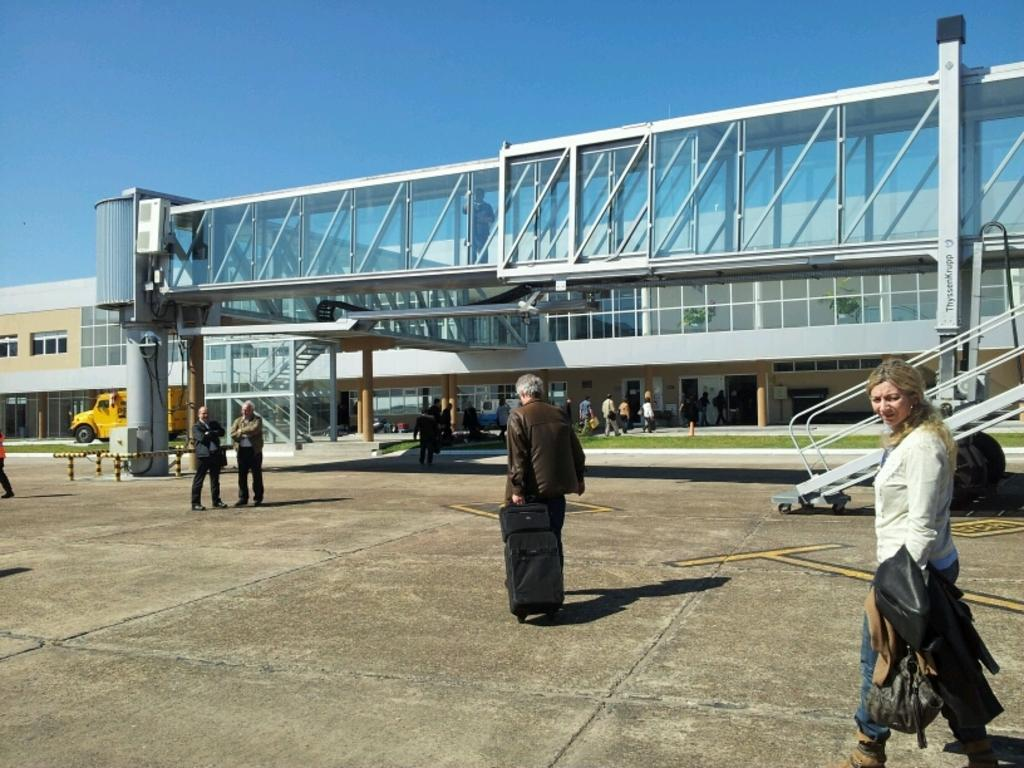Luggage-and-bags: (506, 494, 563, 612)
